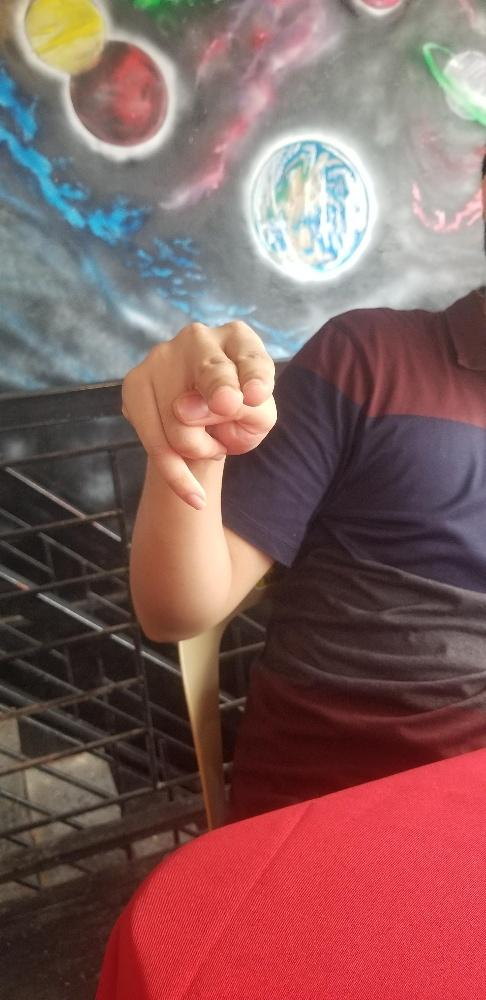n: (118, 317, 277, 510)
